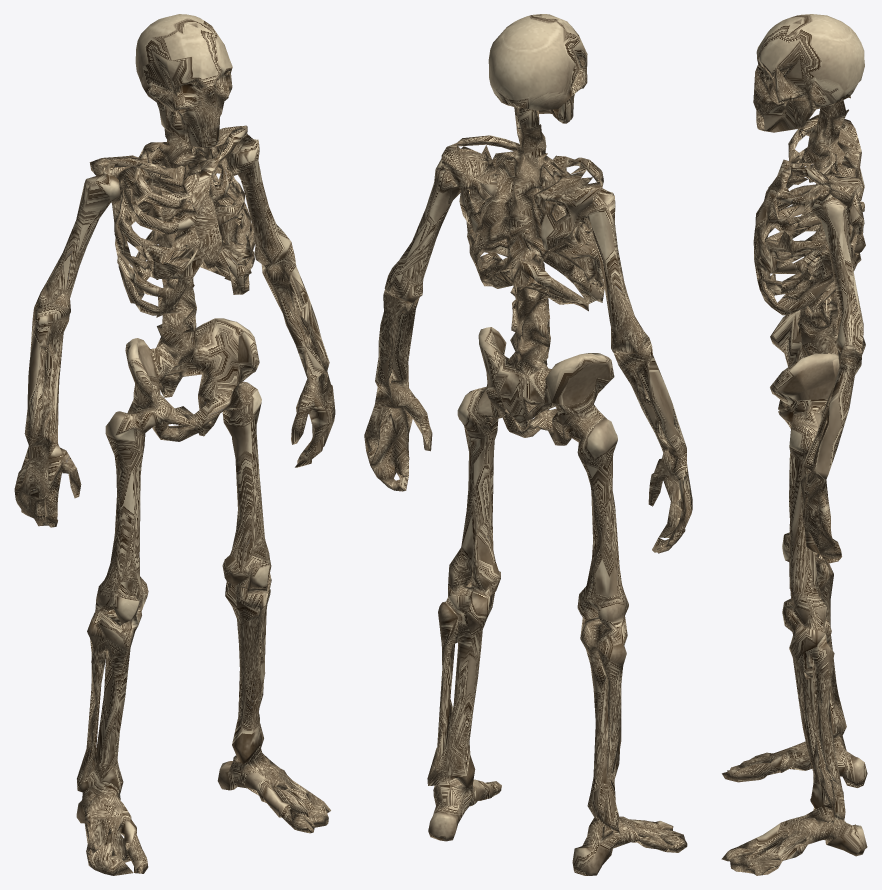
The model's file is bonewalker.glb.
3 renders of one model, left to right at view 1: azimuth 30°, elevation 25°; view 2: azimuth 150°, elevation 25°; view 3: azimuth 270°, elevation 25°, orthographic. The views are drawn at different scales.
Parts seen in each view (by area): view 1: Mesh_0; view 2: Mesh_0; view 3: Mesh_0.
Part boxes in pixels (bbox=[...]): Mesh_0: bbox=[14, 14, 335, 875]; Mesh_0: bbox=[364, 14, 692, 875]; Mesh_0: bbox=[721, 14, 867, 875].
Bounding box in the file's own units: 0.7905 × 1.9 × 0.3141.
Materials: 1 (1 with a texture image).
